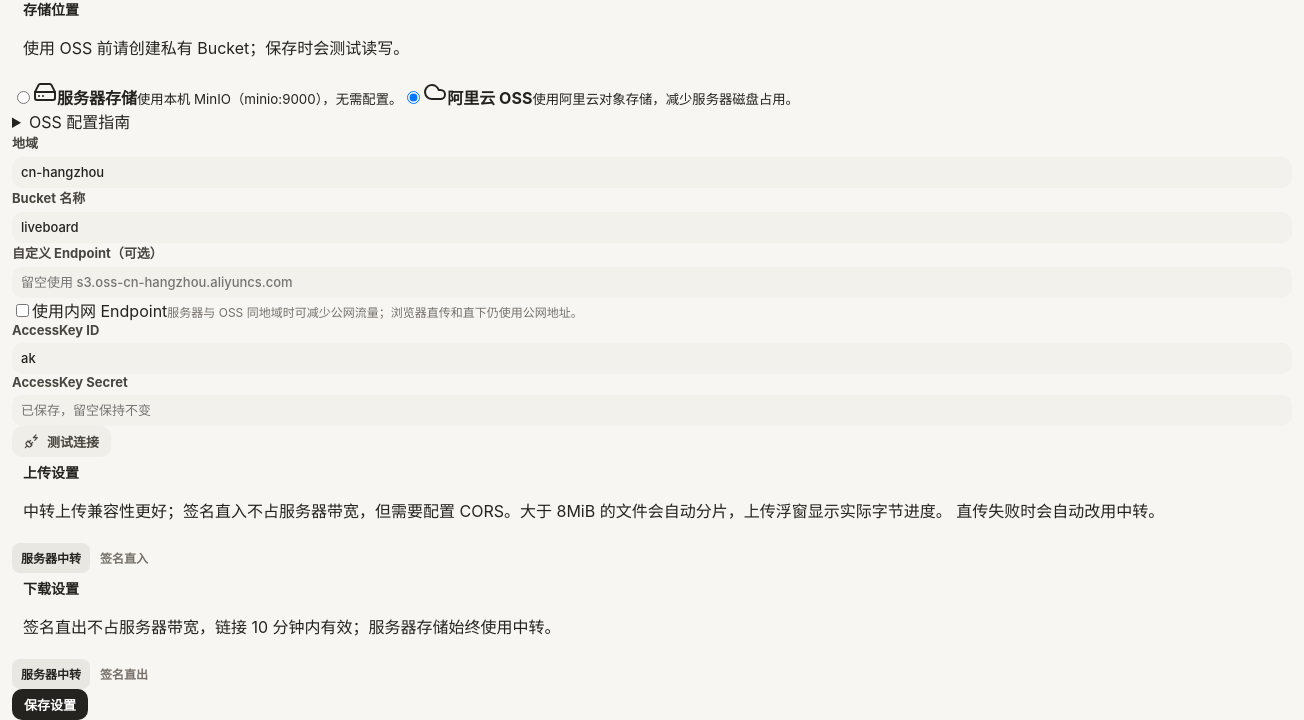
StorageBackendClient › shows a CORS hint when presigned direct upload is selected
(page scrolled)
Check: the text "需配置 Bucket CORS" is not shown
Click the button "签名直入" at [124, 558], box [91,543,157,573]
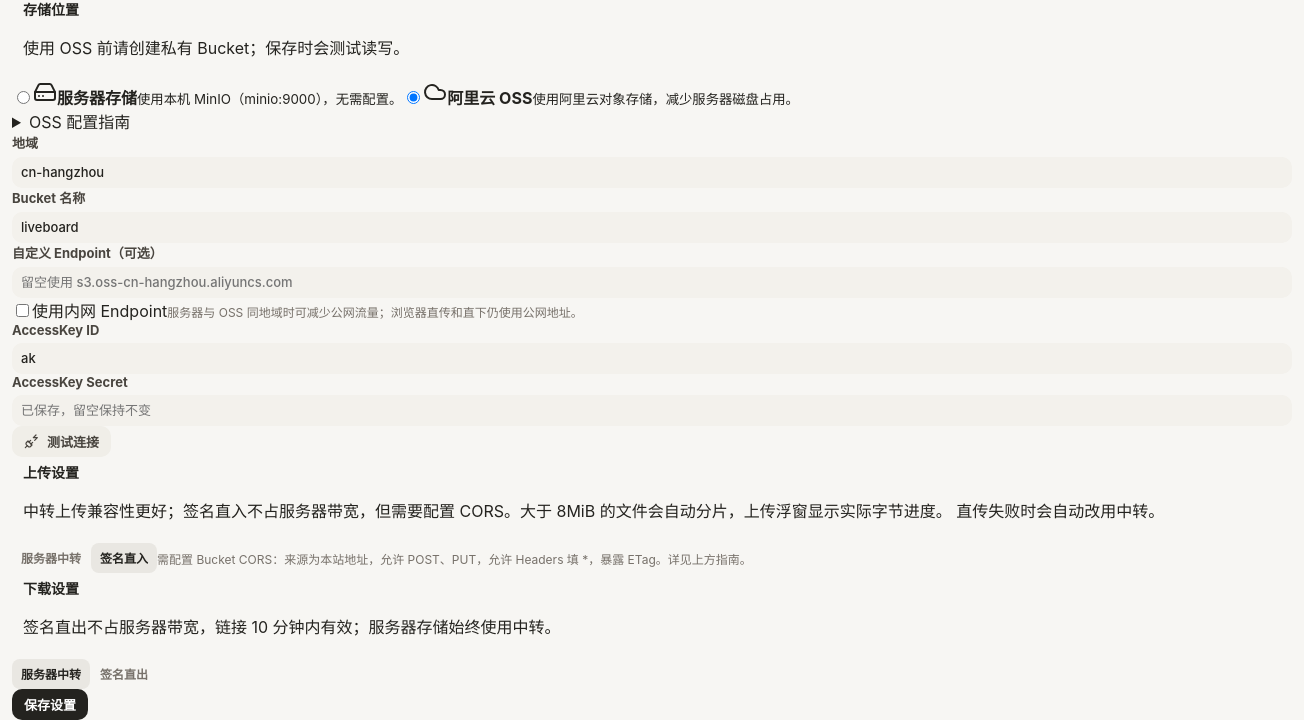
Check: the text "需配置 Bucket CORS" is shown, box [157,551,752,566]
